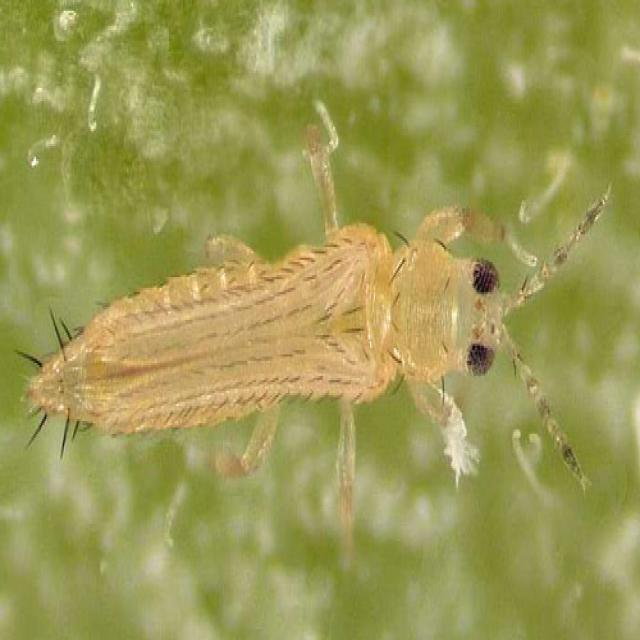Thrip-Larva-: (26, 76, 617, 501)
